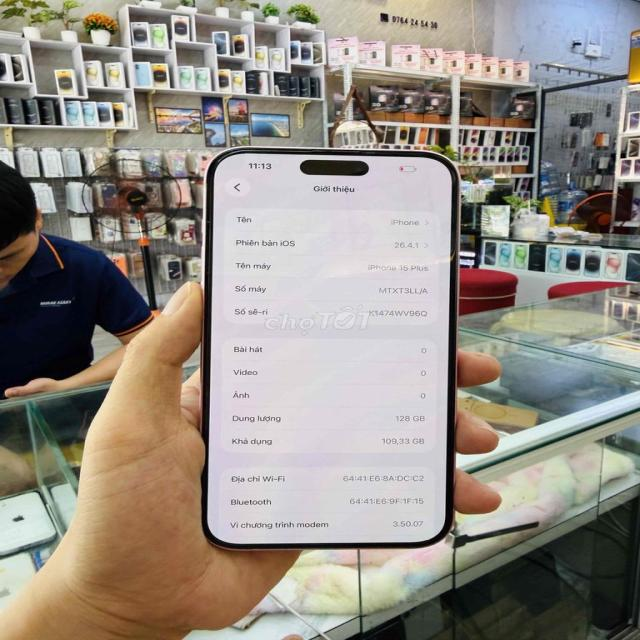gen_15: (178, 130, 494, 564)
